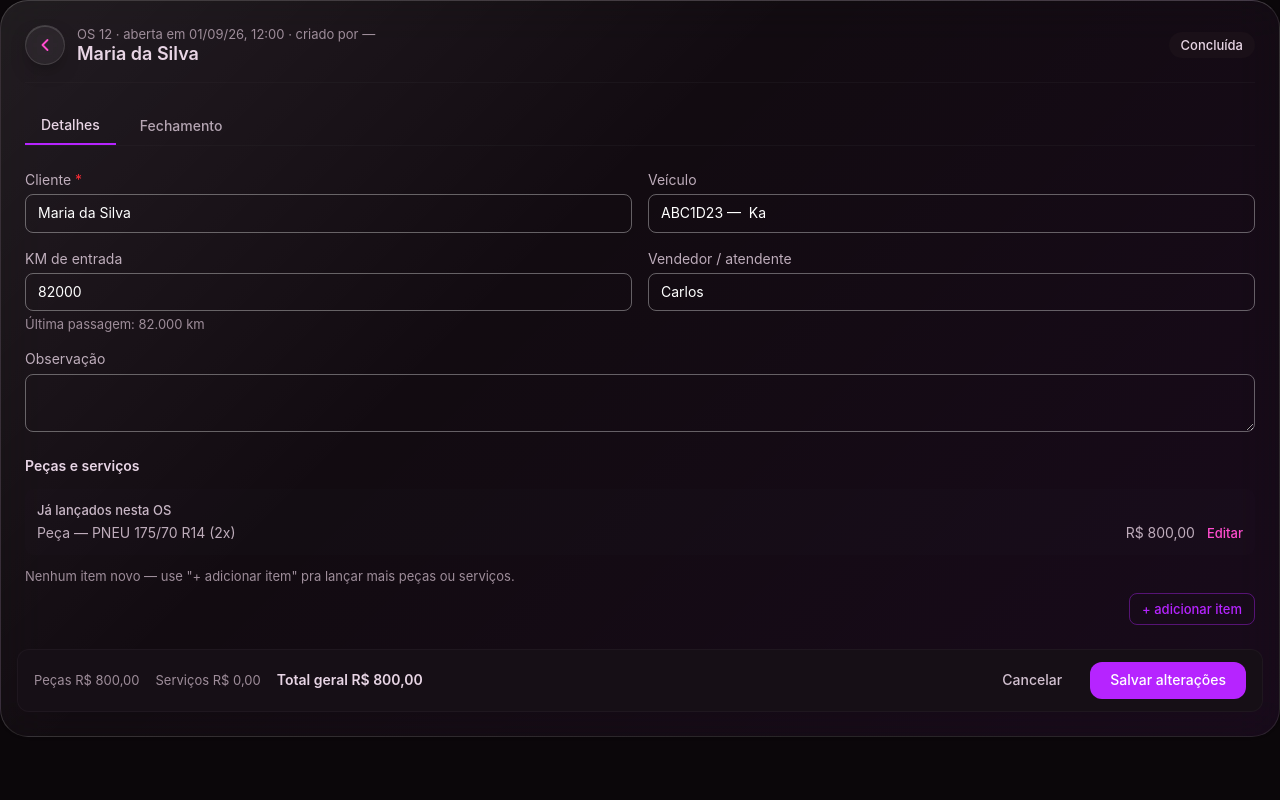
OrdemServicoForm — lançar item › o total do rodapé soma o que já estava lançado com o que está sendo digitado
The image size is (1280, 800).
Click the button "+ adicionar item" at (1192, 609), box [1129,593,1255,625]
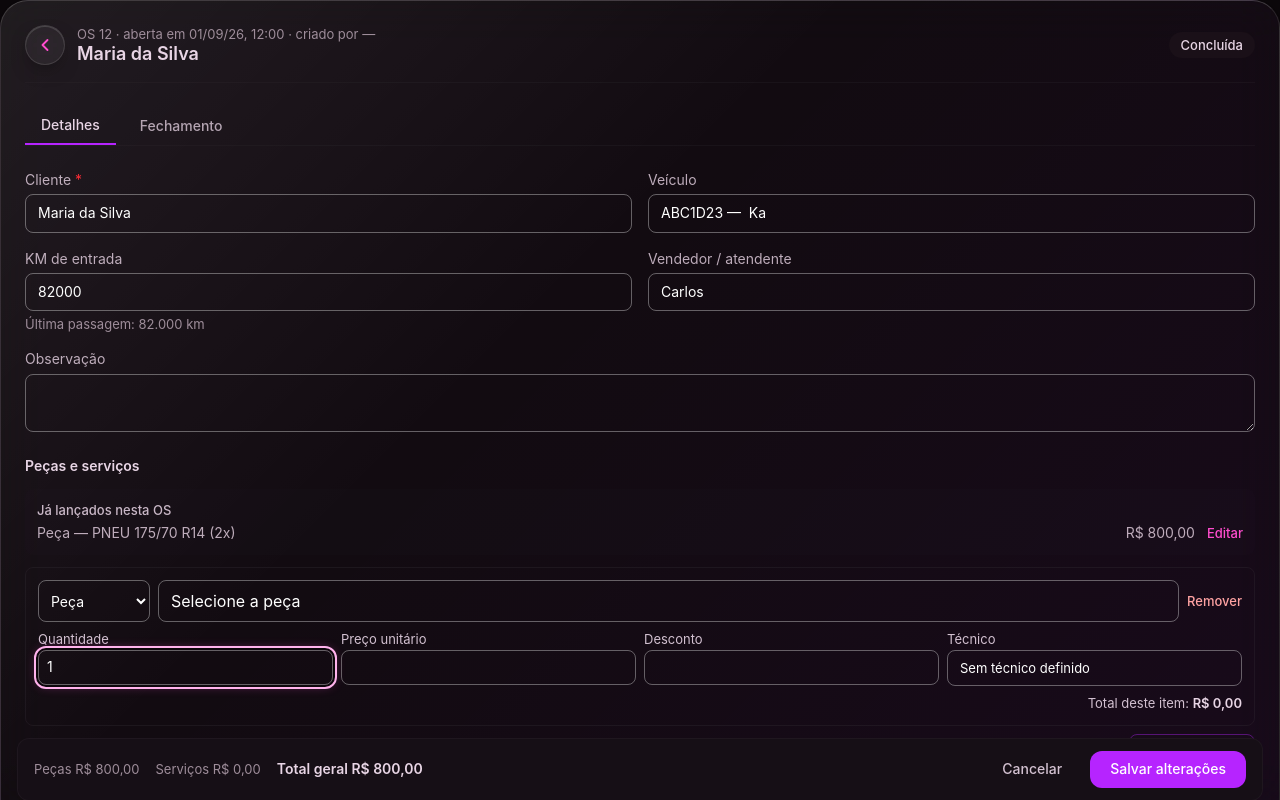
Select "Serviço" in the 4th dropdown at (94, 601), box [38,580,150,622]
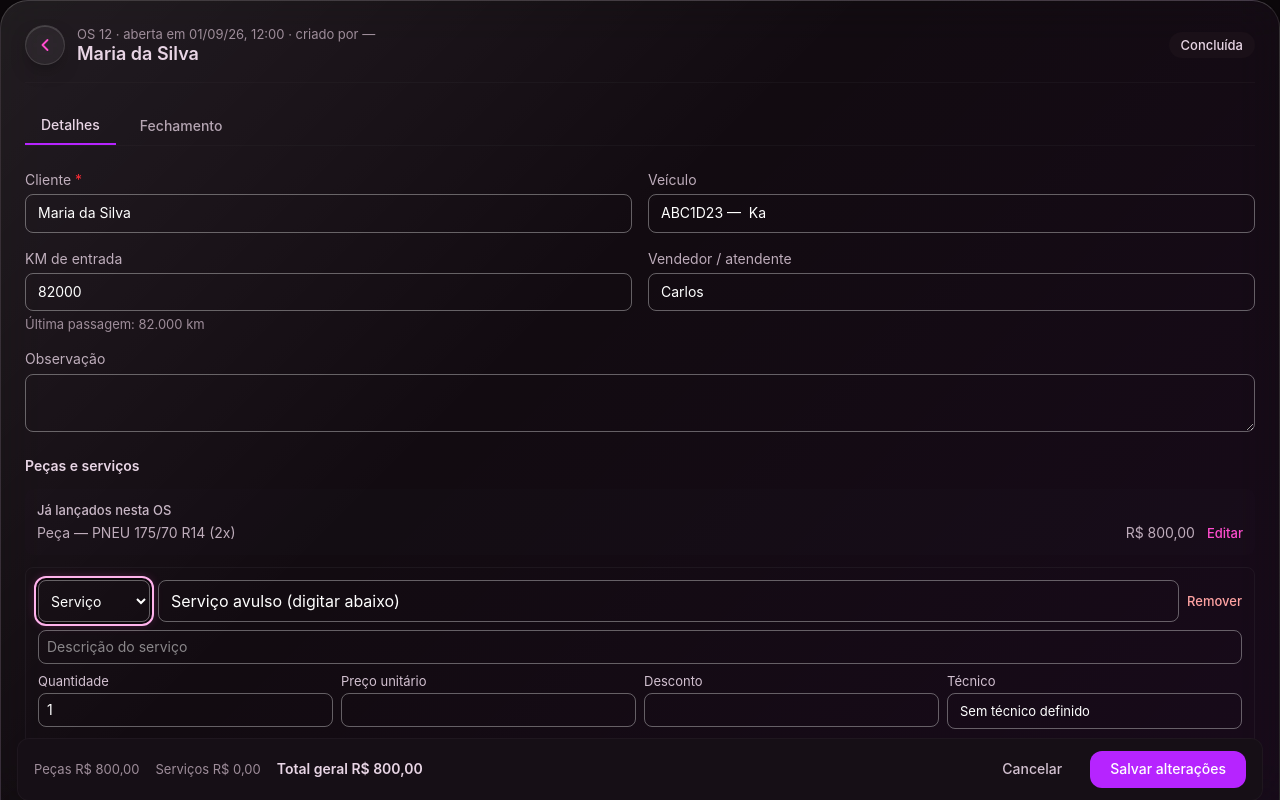
Click the 2nd dropdown showing "Serviço avulso" at (669, 601), box [158,580,1179,622]
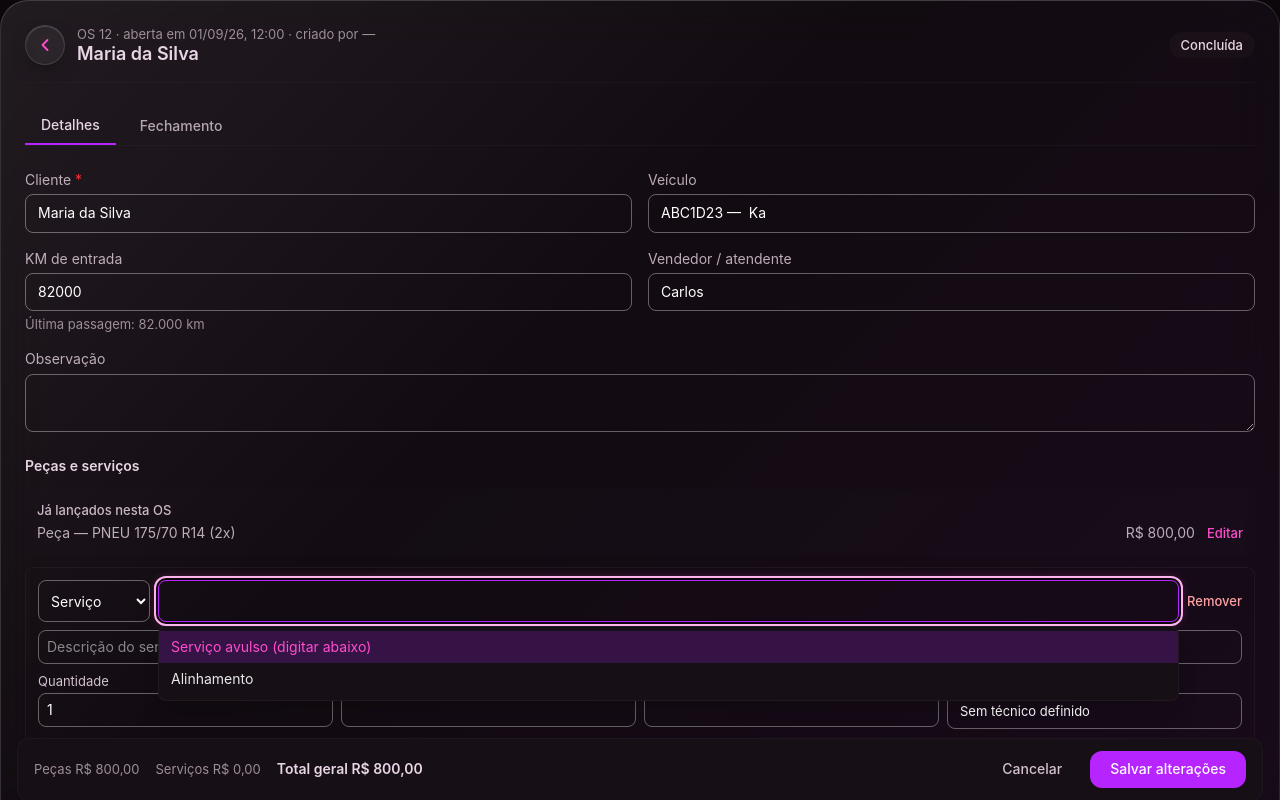
Click the button "Alinhamento" at (212, 679), box [159,663,1178,696]
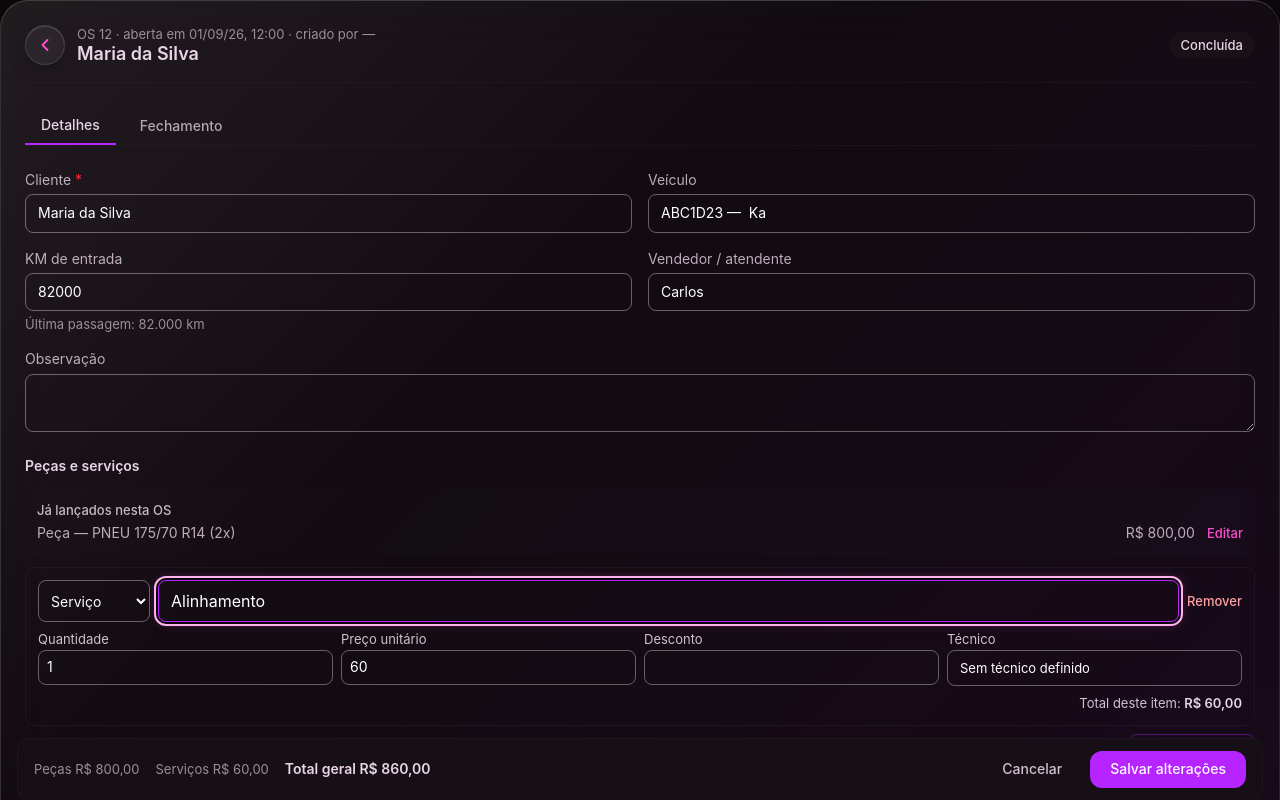
Expected: the text "Peças R$ 800,00" is shown, [34,760,140,778]
Result: the text "Serviços R$ 60,00" is shown at [156,760,269,778]
Result: the text "Total geral R$ 860,00" is shown at [285,759,430,779]
